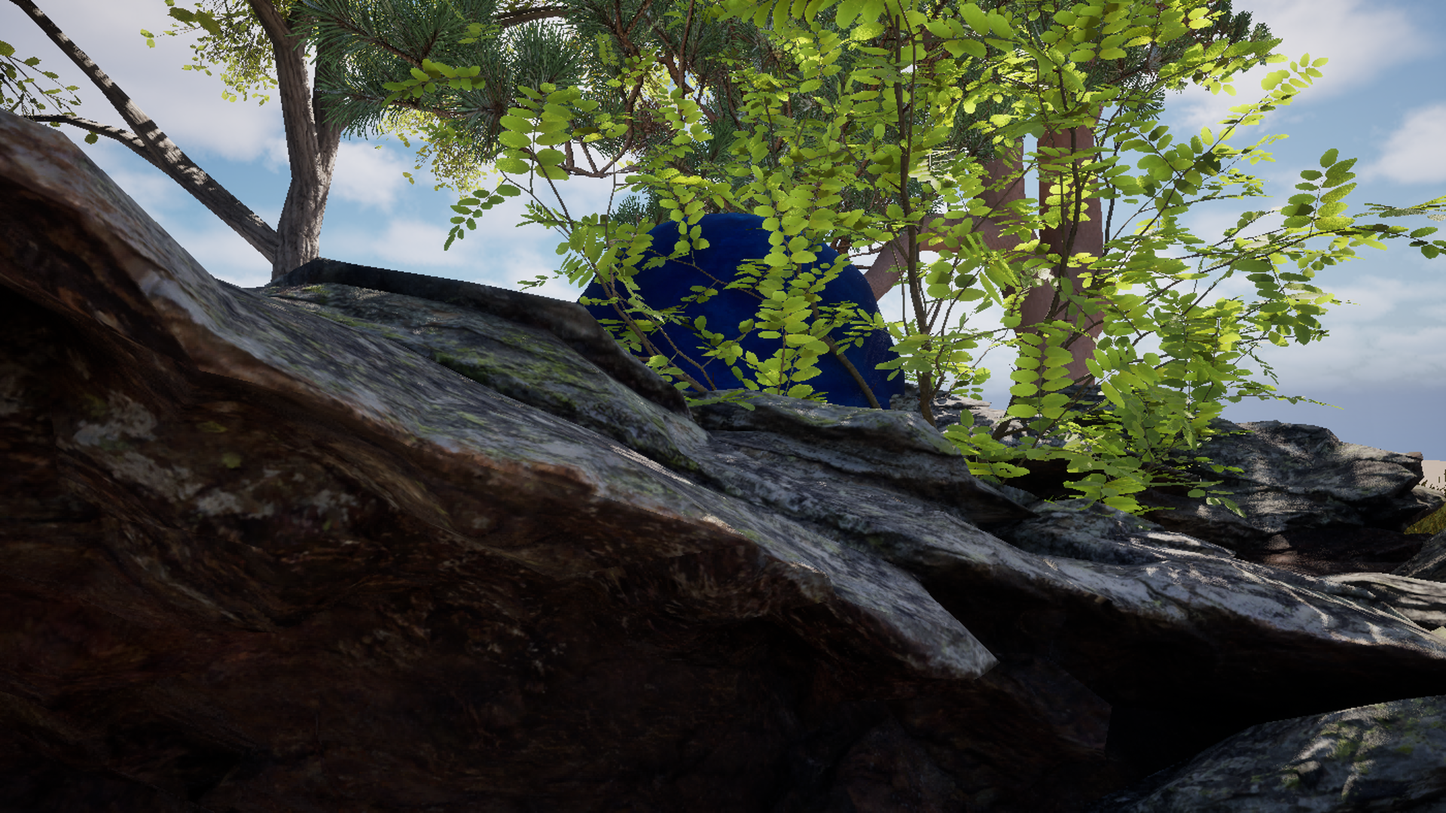Piplup: (343, 0, 1122, 813)
